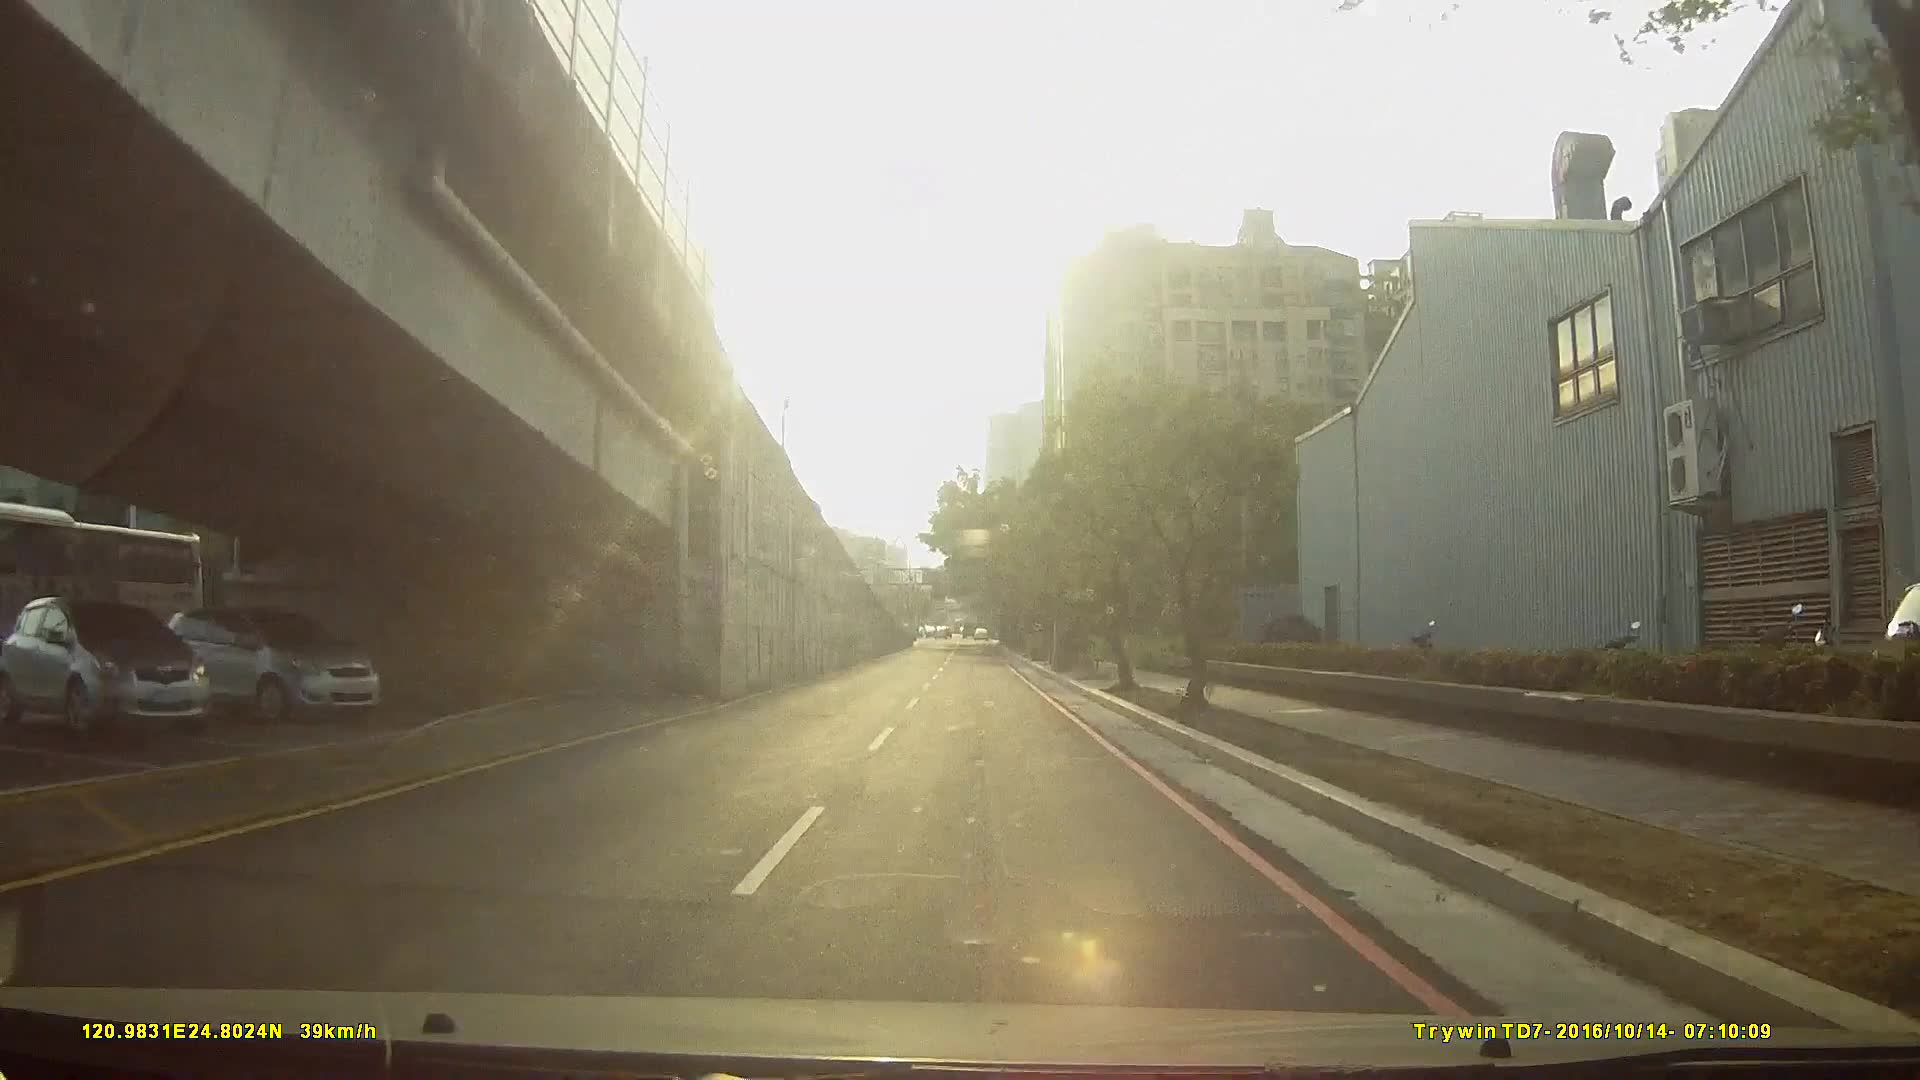vehicle: (1, 501, 214, 703), (142, 604, 396, 727), (1, 593, 207, 741)
